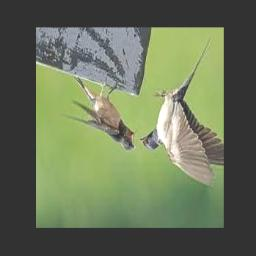Swallow: (140, 38, 224, 187), (62, 77, 137, 151)
